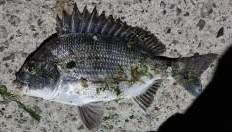fish: (14, 2, 220, 131)
